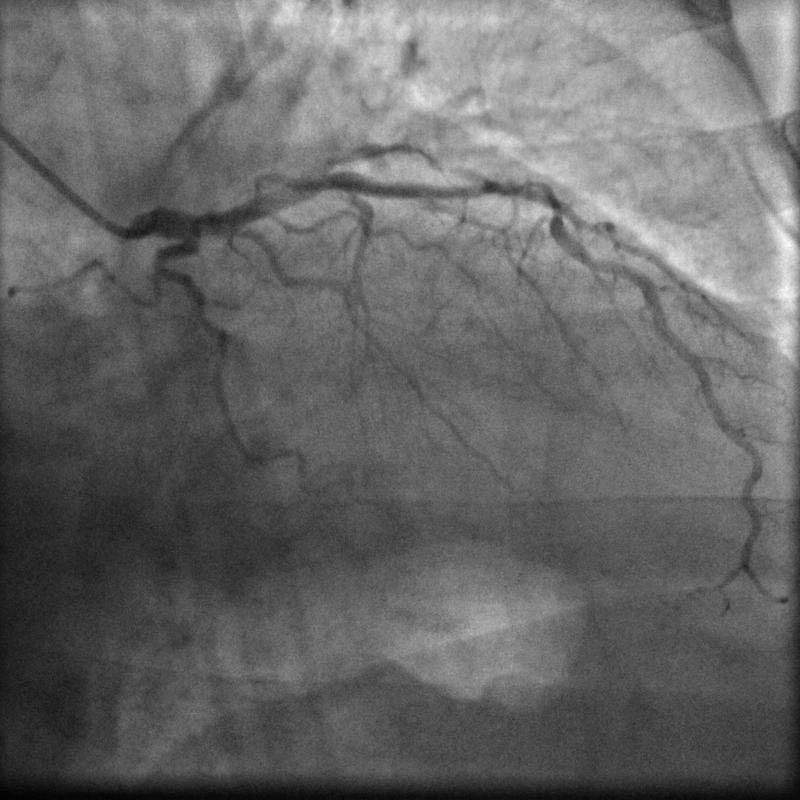Stenosis: (483, 170, 568, 215)
